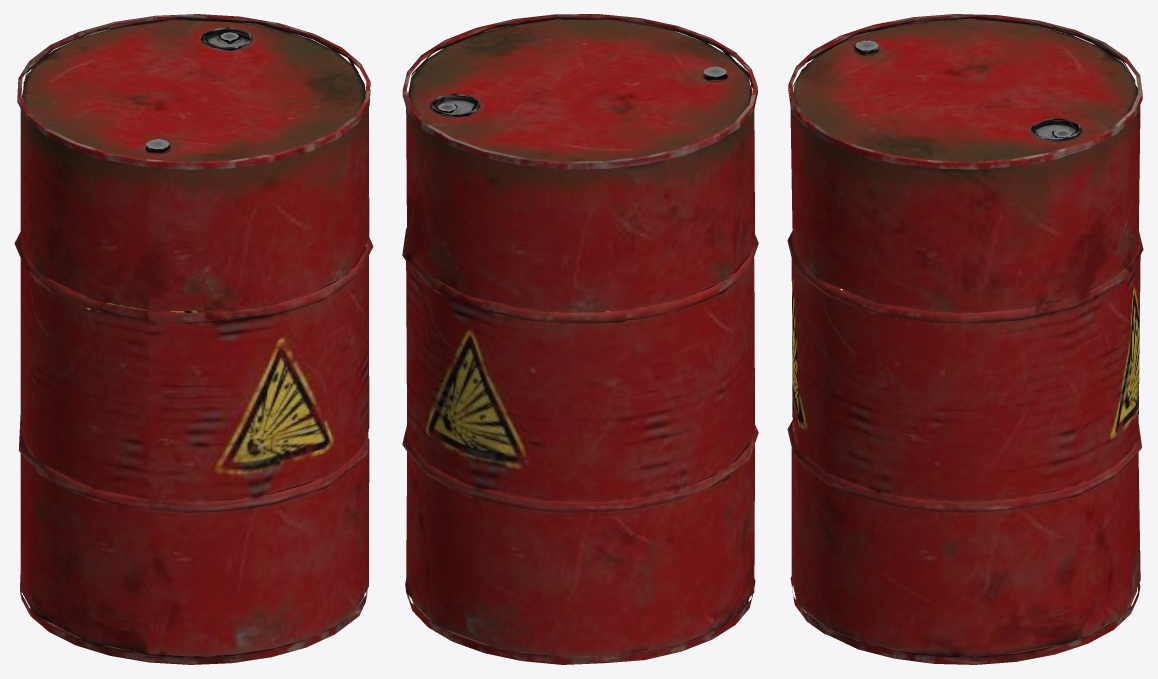
Rendered from barrel.glb.
The picture shows the model from 3 angles, left to right: view 1: azimuth 30°, elevation 25°; view 2: azimuth 150°, elevation 25°; view 3: azimuth 270°, elevation 25°; orthographic projection.
Visible parts, largest first — view 1: Barrel_01; view 2: Barrel_01; view 3: Barrel_01.
Part boxes in pixels (left/top/right/bottom): Barrel_01: left=14, top=14, right=373, bottom=664; Barrel_01: left=402, top=14, right=758, bottom=664; Barrel_01: left=787, top=14, right=1143, bottom=664.
Size of the model in its own units: 0.5644 by 0.8819 by 0.5638.
Materials: 1 (1 with a texture image).
